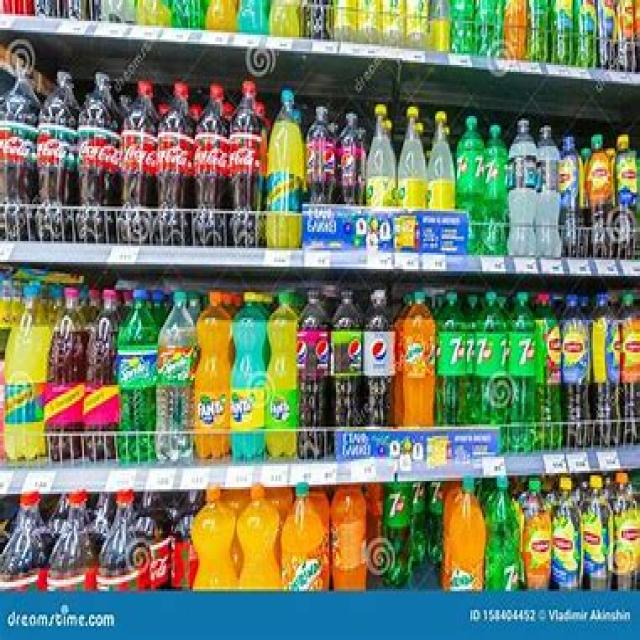Coke: (230, 86, 271, 241), (120, 76, 158, 232), (166, 76, 196, 230), (198, 84, 226, 218)
fanta: (195, 294, 234, 459)
